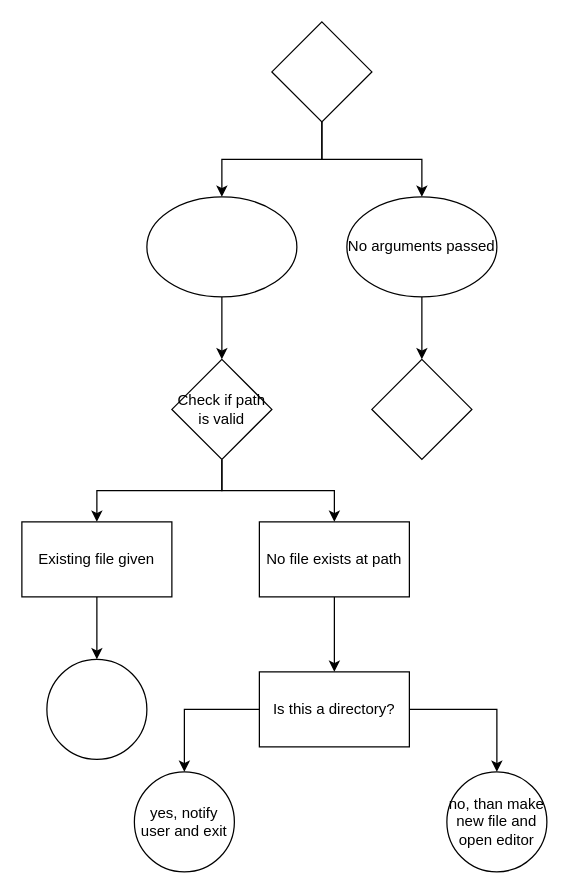
The diagram is 569 pixels wide and 894 high, and some of its shapes have lost their labels. Here are the shapes that lost their labels. From the top down, the centre of each, then its label:
At point 321,71: "CLI entry point".
At point 221,246: "First argument is passed (File Path)".
At point 421,408: "Display help view".
At point 96,708: "Open File; user can now edit".
